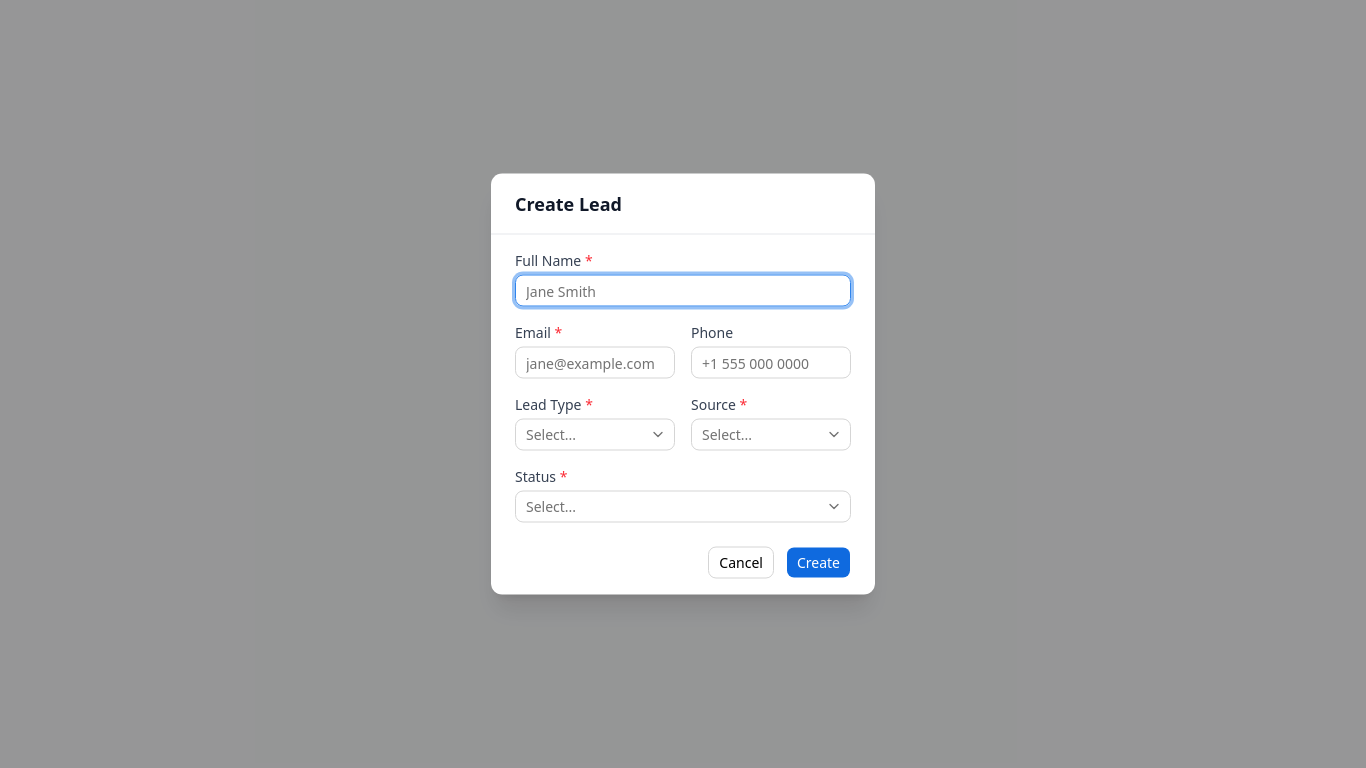
Test: CreateLeadModal › shows validation errors when submitting empty form
The width and height of the screenshot is (1366, 768).
Click the button with aria-label "create lead": x=818, y=562 x1=786 y1=546 x2=851 y2=578
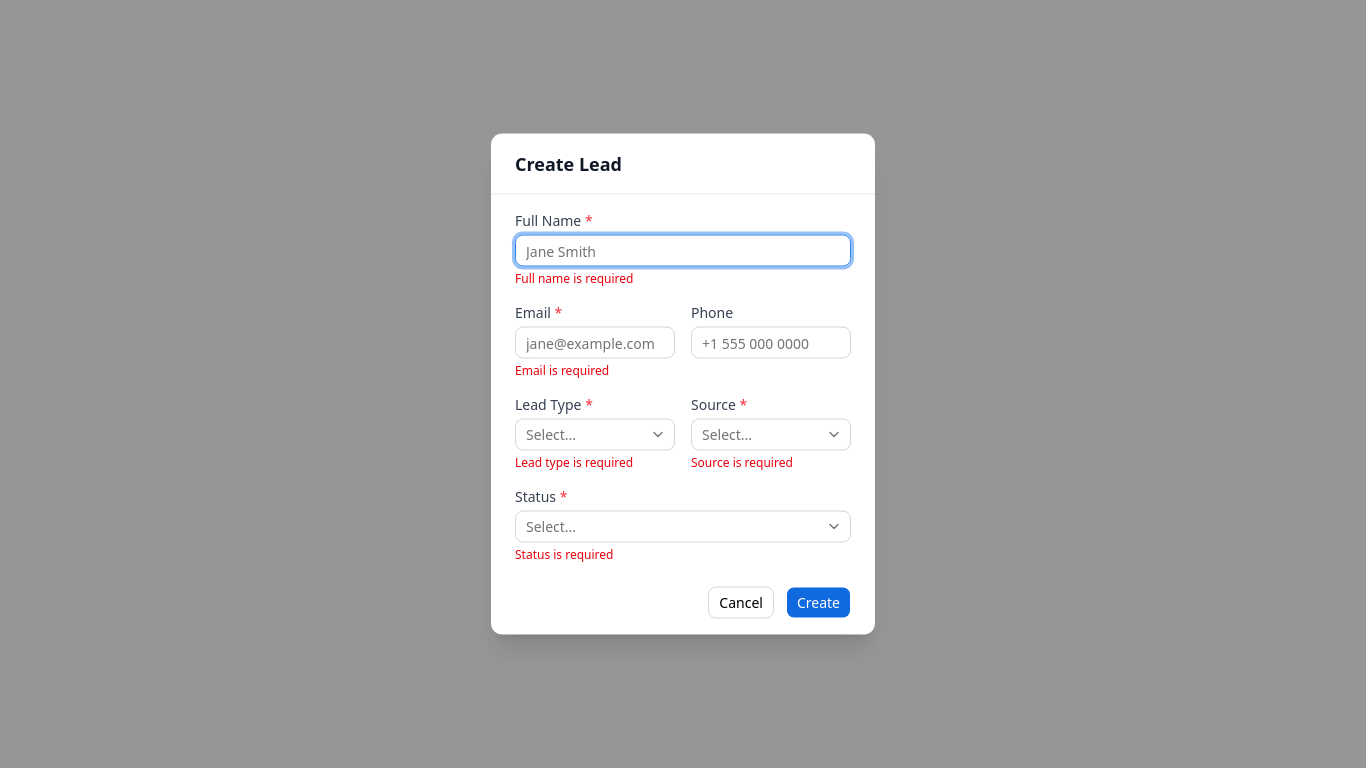
Check: the message "Full name is required" is shown, box x1=515 y1=270 x2=633 y2=286
